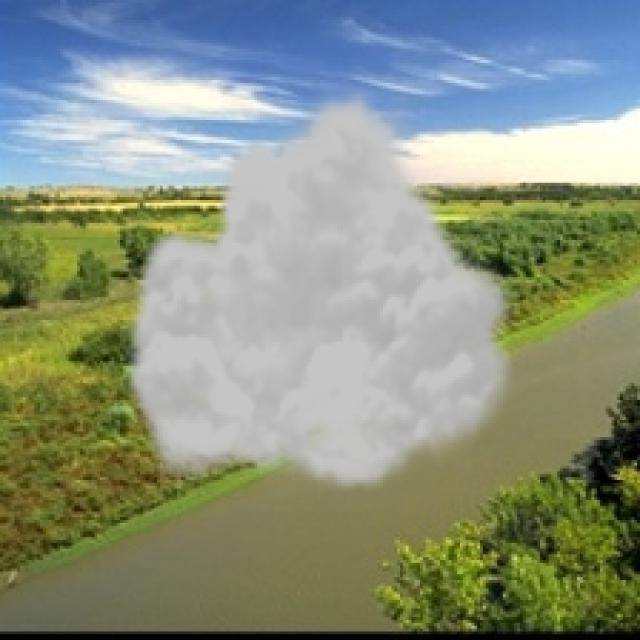Smoke: (117, 82, 526, 494)
